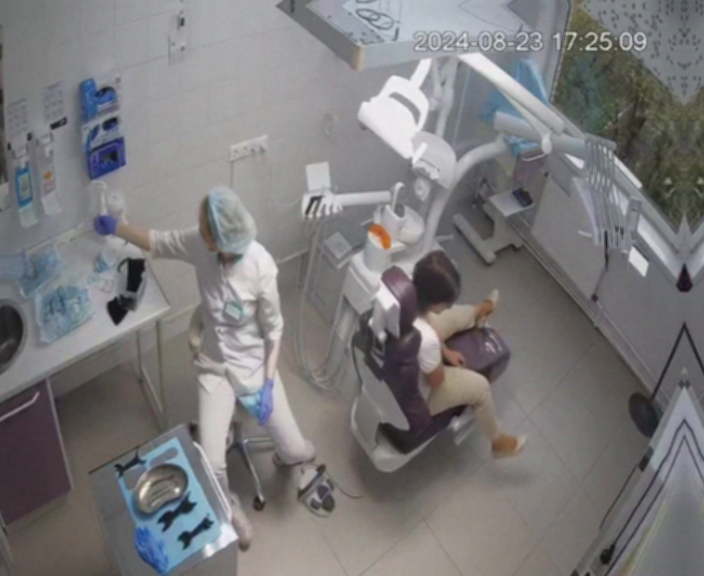Empty: (343, 249, 529, 478)
